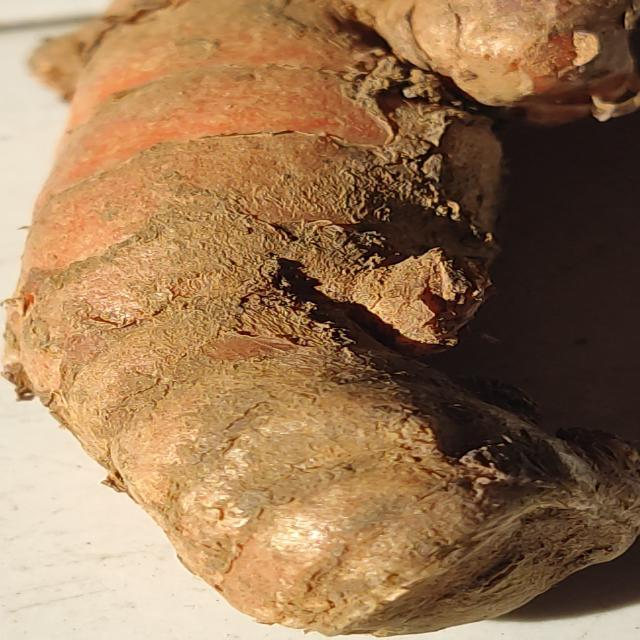ginger: (46, 0, 640, 597)
